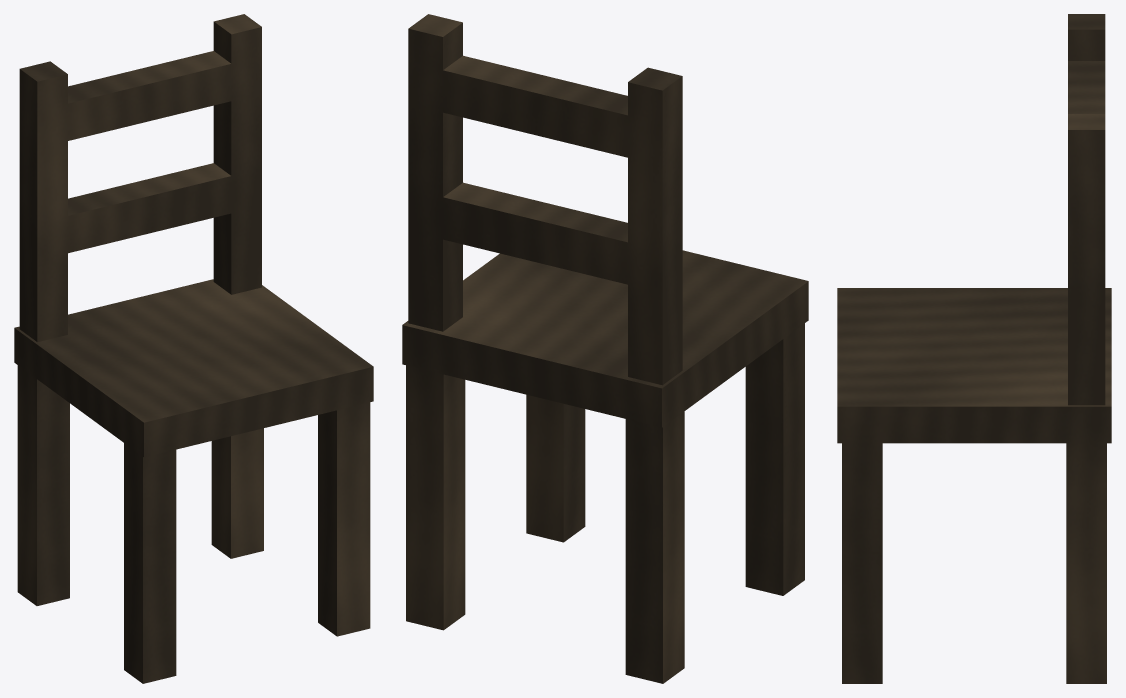
Rendered from Chair.glb.
3 renders of one model, left to right at view 1: azimuth 30°, elevation 25°; view 2: azimuth 150°, elevation 25°; view 3: azimuth 270°, elevation 25°, orthographic. The views are drawn at different scales.
Parts seen in each view (by area): view 1: Chair; view 2: Chair; view 3: Chair.
Boxes of the visible parts, x1,y1,x2,y2 form: Chair: (14, 14, 373, 683); Chair: (402, 14, 808, 683); Chair: (837, 14, 1111, 683).
Size of the model in its own units: 0.45 by 0.98 by 0.44.
Materials: 1 (1 with a texture image).
